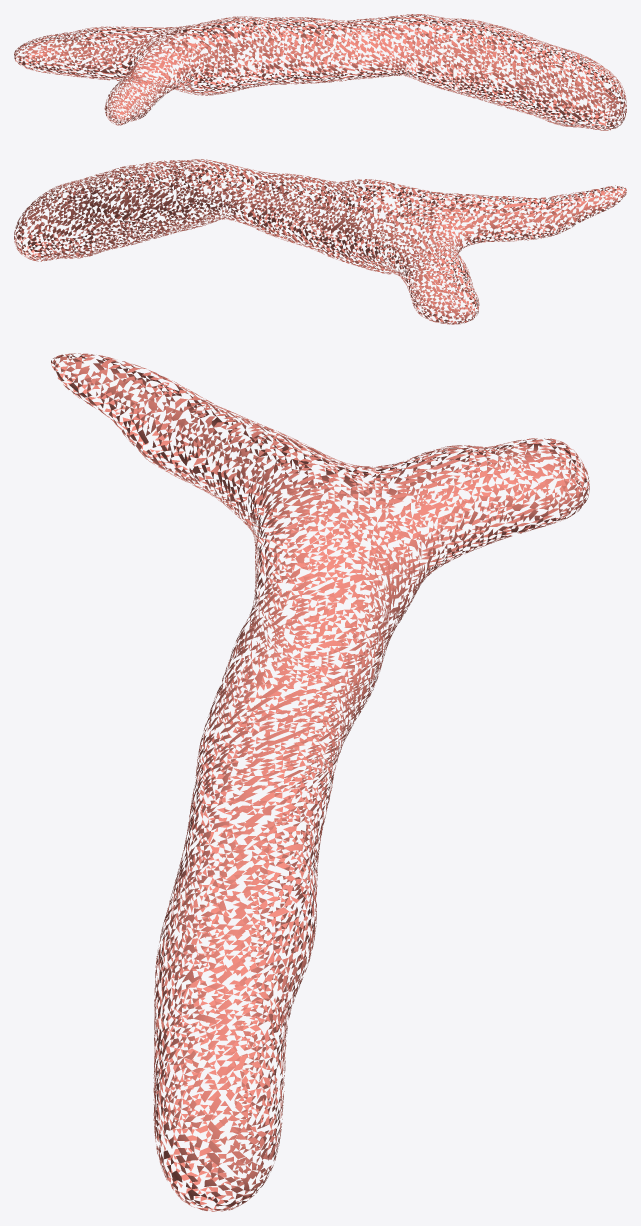
The model's file is diseased.glb.
The picture shows the model from 3 angles, top to bottom: view 1: azimuth 30°, elevation 25°; view 2: azimuth 150°, elevation 25°; view 3: azimuth 270°, elevation 25°; orthographic projection. The views are drawn at different scales.
Bounding box in the file's own units: 111 × 34.25 × 47.35.
